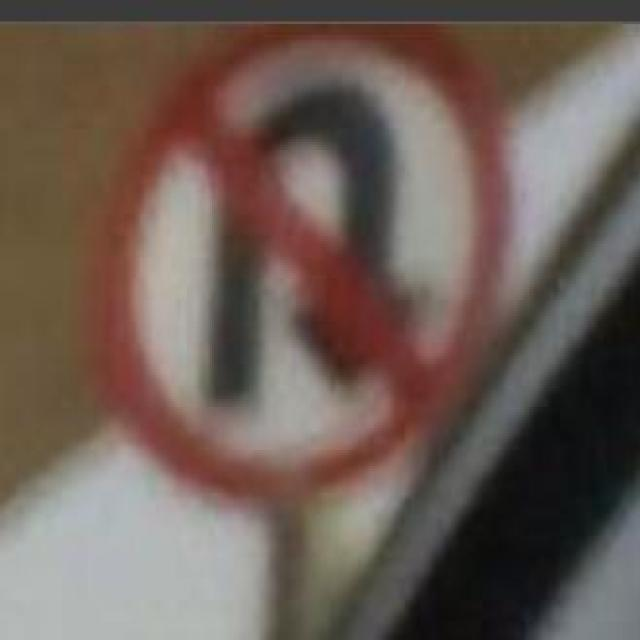traffic sign: (93, 27, 506, 512)
